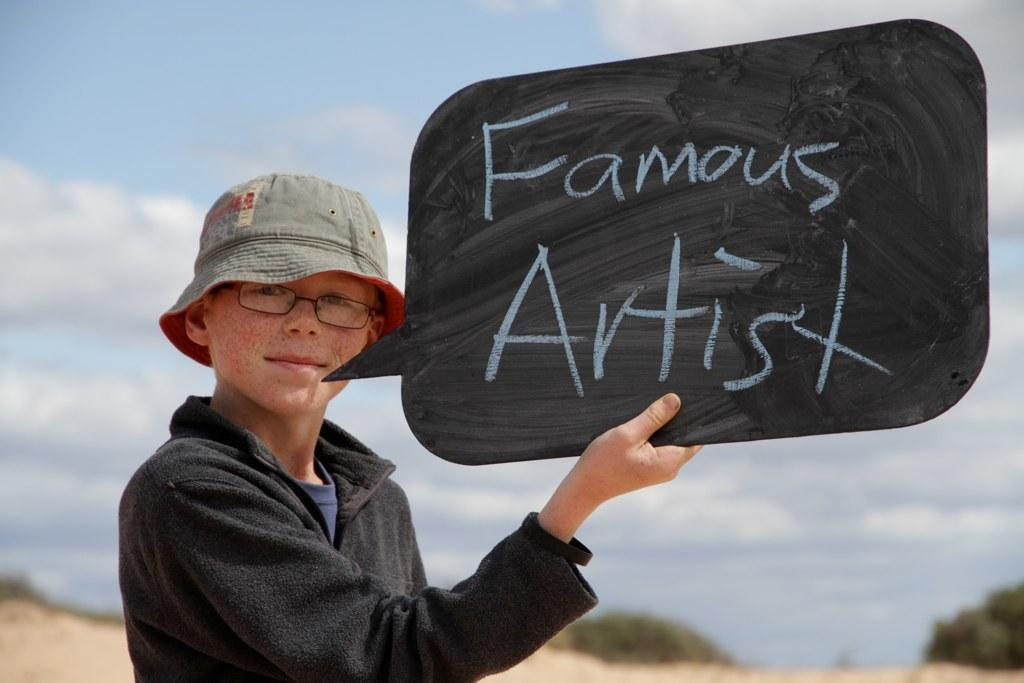Hat: (154, 169, 408, 367)
